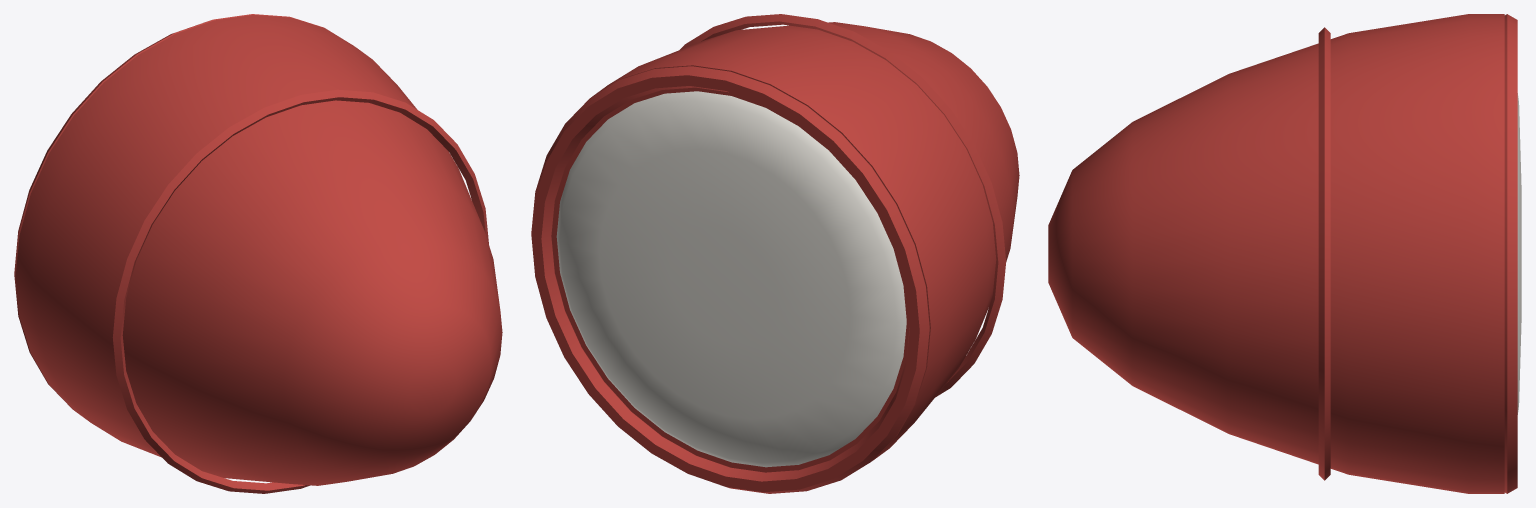
File: bullet.glb
The picture shows the model from 3 angles, left to right: view 1: azimuth 30°, elevation 25°; view 2: azimuth 150°, elevation 25°; view 3: azimuth 270°, elevation 25°; orthographic projection. The views are drawn at different scales.
Visible parts, largest first — view 1: lod0; view 2: lod0; view 3: lod0.
Boxes of the visible parts, <box> form: lod0: <box>14,14,502,493</box>; lod0: <box>531,14,1019,493</box>; lod0: <box>1048,14,1521,493</box>.
Size of what is drawn, in the model's own units: 2 by 2 by 1.97.
